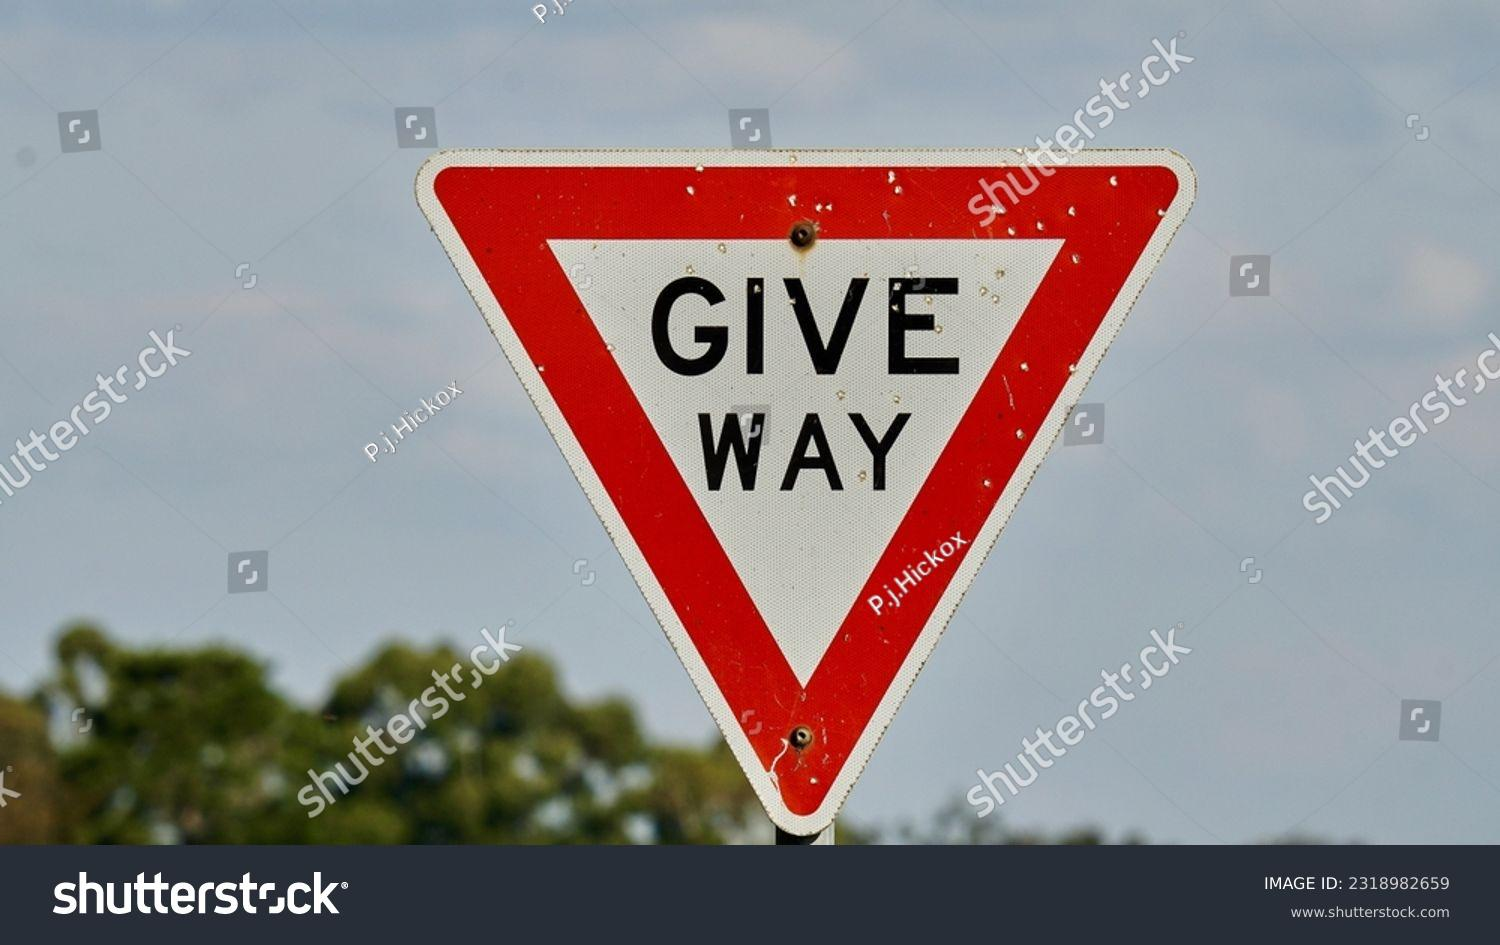Give Way: (382, 107, 1269, 810)
